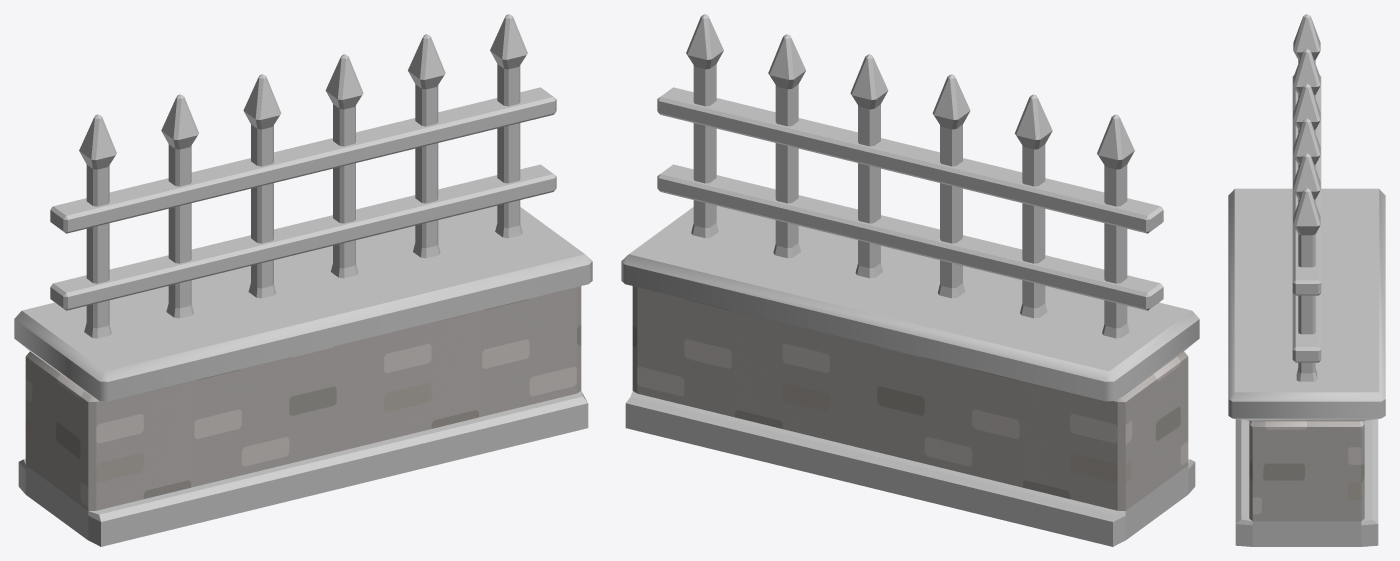
Rendered from BrickWall_4_2.fbx.
The picture shows the model from 3 angles, left to right: view 1: azimuth 30°, elevation 25°; view 2: azimuth 150°, elevation 25°; view 3: azimuth 270°, elevation 25°; orthographic projection. The views are drawn at different scales.
Parts seen in each view (by area): view 1: BrickWall_4_2; view 2: BrickWall_4_2; view 3: BrickWall_4_2.
Part boxes in pixels (x1,y1,x2,y2): BrickWall_4_2: [14, 14, 592, 546]; BrickWall_4_2: [621, 14, 1199, 546]; BrickWall_4_2: [1228, 14, 1385, 546].
Bounding box in the file's own units: 200 × 152 × 63.57.
